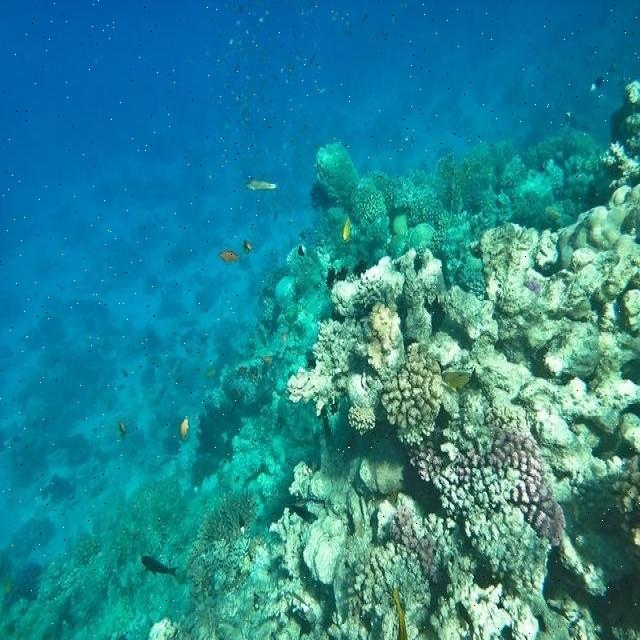aquatic plants: (315, 127, 639, 297)
reefs: (381, 426, 608, 639), (380, 342, 442, 442)
